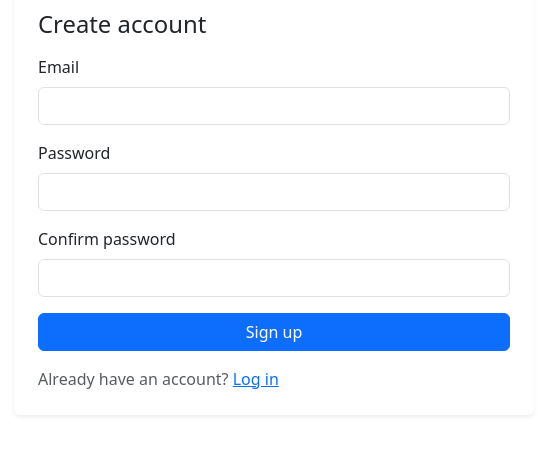
Test case: SignupPage › shows error when password confirmation is empty
In the field labelled "Email": point(274, 106) [38,87,510,125], type "test@example.com"
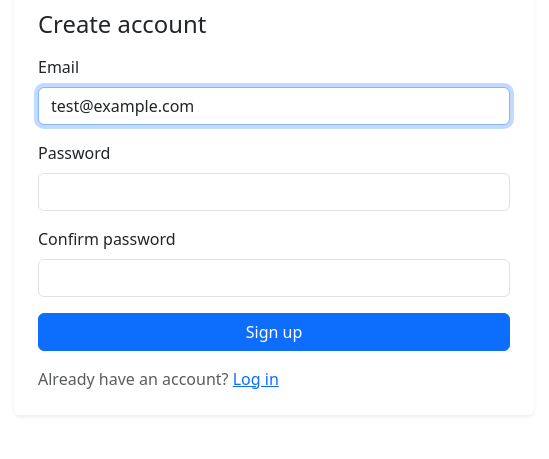
In the password field labelled "Password": point(274, 192) [38,173,510,211], type "password123"
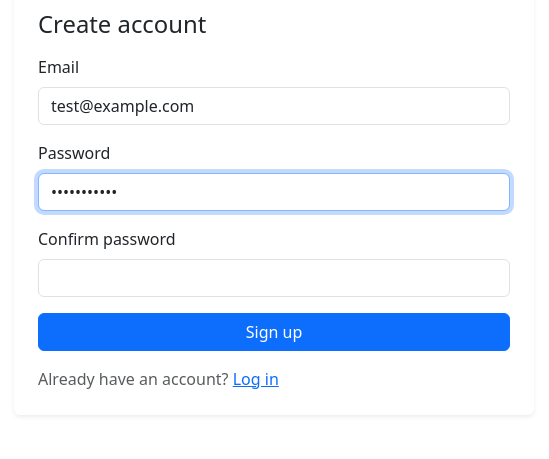
Click the button "Sign up": point(274, 332) [38,313,510,351]
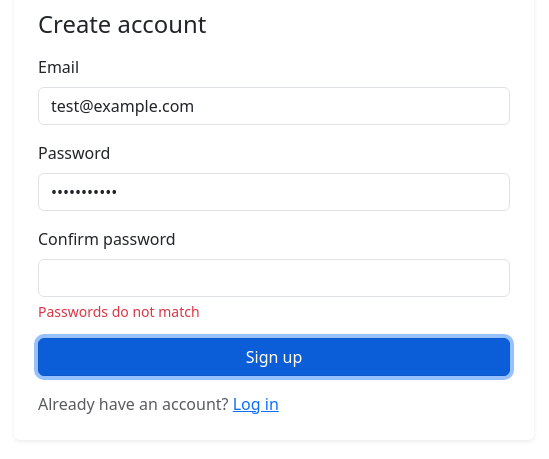
Result: the text "Passwords do not match" is shown at [38,302,200,321]
